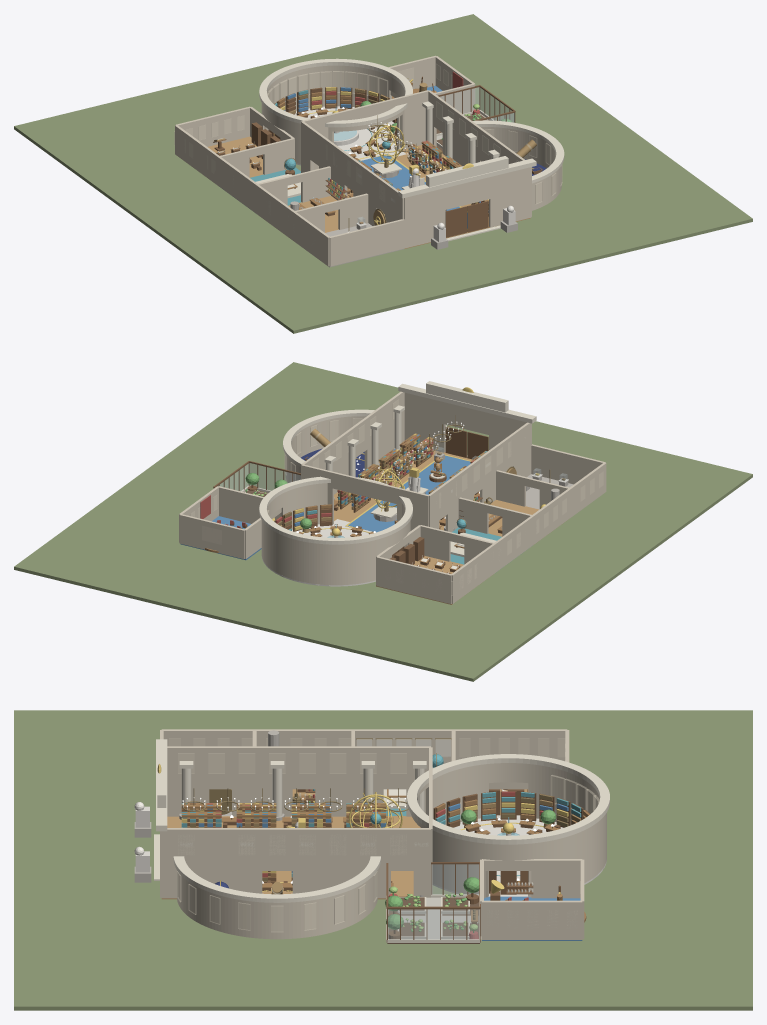
The model's file is chroniclers-athenaeum.glb.
The picture shows the model from 3 angles, top to bottom: view 1: azimuth 30°, elevation 25°; view 2: azimuth 150°, elevation 25°; view 3: azimuth 270°, elevation 25°; orthographic projection. The views are drawn at different scales.
Parts seen in each view (by area): view 1: MERGED_Ground_Grass, MERGED_Stone_Cream, MERGED_Stone_Trim, MERGED_Glass_Warm, MERGED_Wood_Dark, MERGED_Marble_White, MERGED_Wood_Mid, MERGED_Wood_Parquet, MERGED_Gold, MERGED_Glass_Pane, MERGED_Carpet_Blue, MERGED_Stone_Grey (+4 smaller); view 2: MERGED_Ground_Grass, MERGED_Stone_Cream, MERGED_Stone_Trim, MERGED_Wood_Dark, MERGED_Glass_Warm, MERGED_Wood_Mid, MERGED_Carpet_Blue, MERGED_Wood_Parquet, MERGED_Glass_Pane, MERGED_Gold, MERGED_Marble_White, MERGED_Brass_Dark (+4 smaller); view 3: MERGED_Ground_Grass, MERGED_Stone_Cream, MERGED_Stone_Trim, MERGED_Glass_Warm, MERGED_Wood_Dark, MERGED_Wood_Mid, MERGED_Glass_Pane, MERGED_Brass_Dark, MERGED_Gold, MERGED_Marble_White, MERGED_Wood_Parquet, MERGED_Carpet_Teal (+7 smaller).
Boxes of the visible parts, x1=… form: MERGED_Ground_Grass: x1=14, y1=14, x2=752, y2=333; MERGED_Stone_Cream: x1=175, y1=55, x2=561, y2=266; MERGED_Stone_Trim: x1=255, y1=58, x2=564, y2=241; MERGED_Glass_Warm: x1=174, y1=64, x2=562, y2=216; MERGED_Wood_Dark: x1=213, y1=76, x2=542, y2=237; MERGED_Marble_White: x1=268, y1=106, x2=515, y2=242; MERGED_Wood_Mid: x1=216, y1=82, x2=488, y2=224; MERGED_Wood_Parquet: x1=208, y1=136, x2=530, y2=248; MERGED_Gold: x1=274, y1=78, x2=533, y2=229; MERGED_Glass_Pane: x1=299, y1=87, x2=532, y2=224; MERGED_Carpet_Blue: x1=284, y1=85, x2=488, y2=228; MERGED_Stone_Grey: x1=290, y1=169, x2=517, y2=267; MERGED_Ground_Grass: x1=14, y1=362, x2=752, y2=681; MERGED_Stone_Cream: x1=179, y1=391, x2=606, y2=603; MERGED_Stone_Trim: x1=241, y1=381, x2=536, y2=556; MERGED_Wood_Dark: x1=213, y1=427, x2=502, y2=573; MERGED_Glass_Warm: x1=191, y1=399, x2=603, y2=595; MERGED_Wood_Mid: x1=205, y1=433, x2=502, y2=570; MERGED_Carpet_Blue: x1=180, y1=434, x2=470, y2=560; MERGED_Wood_Parquet: x1=334, y1=450, x2=538, y2=604; MERGED_Glass_Pane: x1=218, y1=433, x2=567, y2=529; MERGED_Gold: x1=225, y1=387, x2=545, y2=536; MERGED_Marble_White: x1=261, y1=425, x2=568, y2=586; MERGED_Brass_Dark: x1=277, y1=415, x2=565, y2=565; MERGED_Ground_Grass: x1=14, y1=710, x2=752, y2=1010; MERGED_Stone_Cream: x1=160, y1=729, x2=606, y2=939; MERGED_Stone_Trim: x1=154, y1=739, x2=609, y2=942; MERGED_Glass_Warm: x1=169, y1=739, x2=599, y2=932; MERGED_Wood_Dark: x1=181, y1=789, x2=590, y2=942; MERGED_Wood_Mid: x1=181, y1=789, x2=589, y2=922; MERGED_Glass_Pane: x1=272, y1=793, x2=479, y2=939; MERGED_Brass_Dark: x1=182, y1=738, x2=568, y2=919; MERGED_Gold: x1=157, y1=764, x2=568, y2=894; MERGED_Marble_White: x1=134, y1=802, x2=606, y2=896; MERGED_Wood_Parquet: x1=161, y1=789, x2=527, y2=899; MERGED_Carpet_Teal: x1=181, y1=754, x2=581, y2=877.
Size of the model in its own units: 185 by 29.85 by 195.
